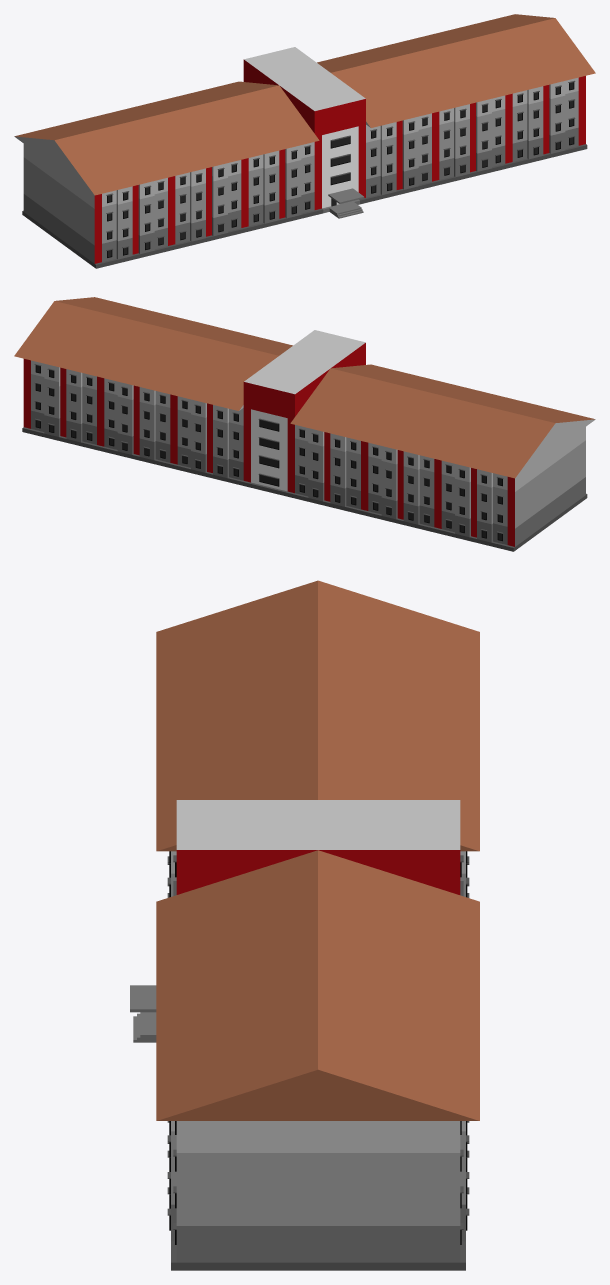
The model's file is Asrama_TelU4.fbx.
3 renders of one model, top to bottom at view 1: azimuth 30°, elevation 25°; view 2: azimuth 150°, elevation 25°; view 3: azimuth 270°, elevation 25°, orthographic. The views are drawn at different scales.
Visible parts, largest first — view 1: Cube.010; view 2: Cube.010; view 3: Cube.010.
Boxes of the visible parts, bbox=[...] form: Cube.010: bbox=[14, 14, 595, 268]; Cube.010: bbox=[14, 297, 595, 551]; Cube.010: bbox=[130, 580, 479, 1270].
Size of the model in its own units: 20400 by 4000 by 6163.
